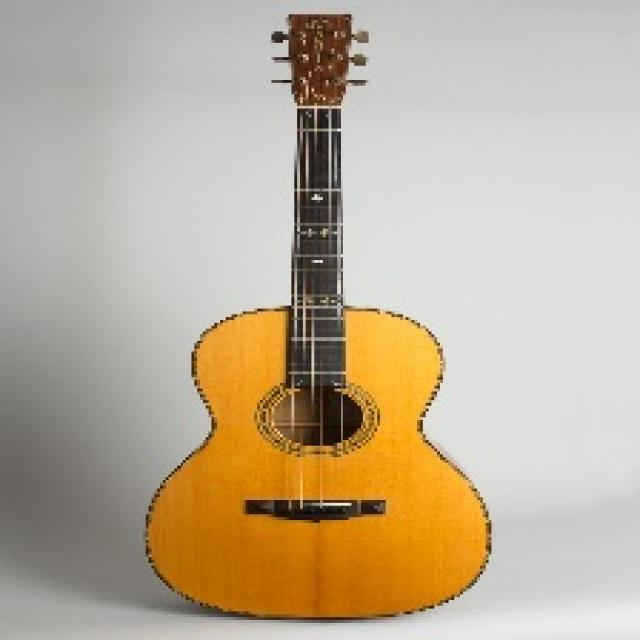guitar: (141, 12, 492, 618)
